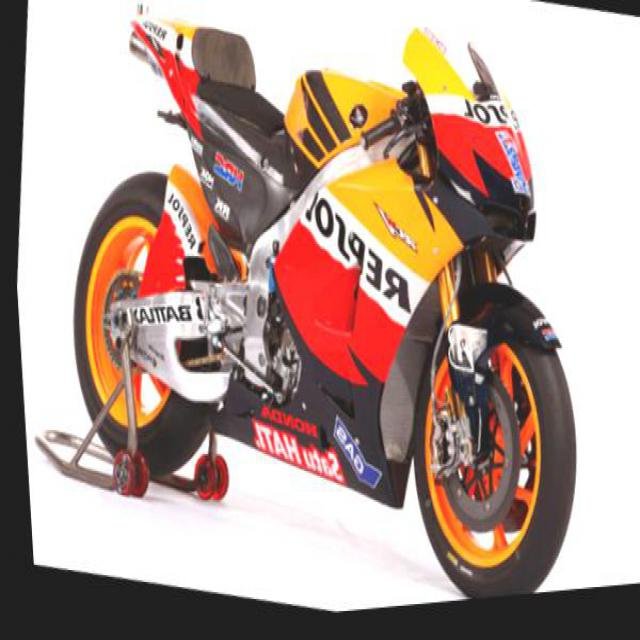HRC RCV 213: (29, 0, 620, 637)
